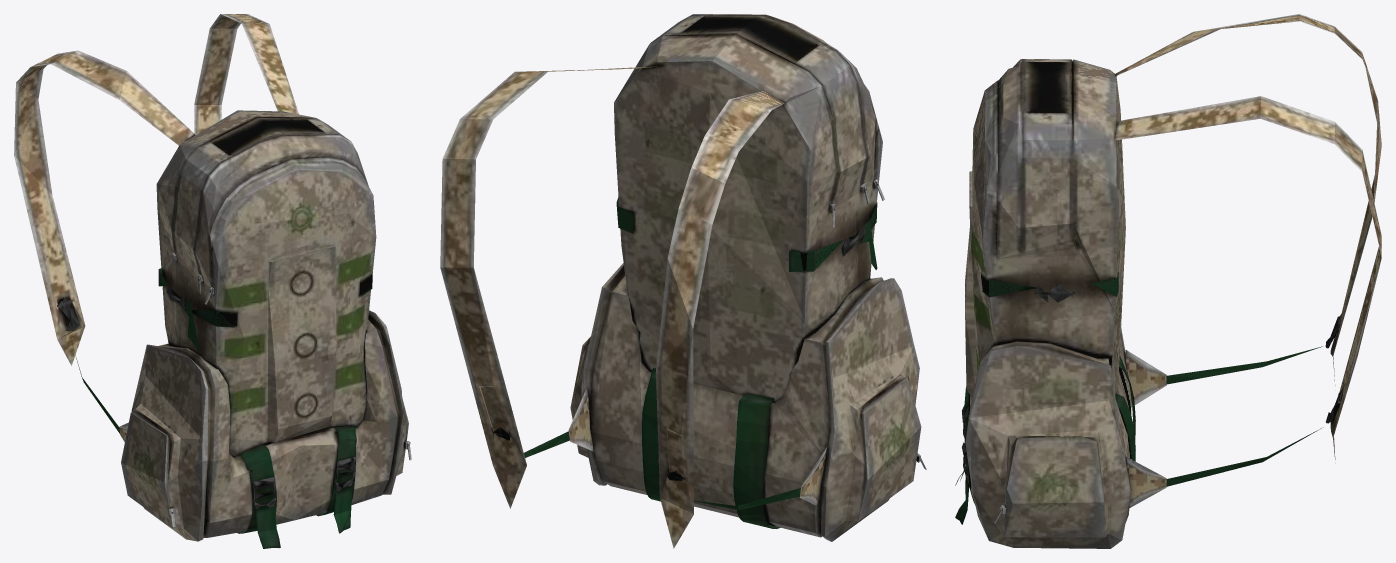
Rendered from bag.glb.
The picture shows the model from 3 angles, left to right: view 1: azimuth 30°, elevation 25°; view 2: azimuth 150°, elevation 25°; view 3: azimuth 270°, elevation 25°; orthographic projection. The views are drawn at different scales.
Parts seen in each view (by area): view 1: bag; view 2: bag; view 3: bag.
Boxes of the visible parts, box(x1,y1,x2,y2) form: bag: box(14, 14, 411, 548); bag: box(440, 14, 926, 548); bag: box(955, 14, 1381, 548).
Bounding box in the file's own units: 0.3219 × 0.4995 × 0.4357.
2 materials, 2 textured.
